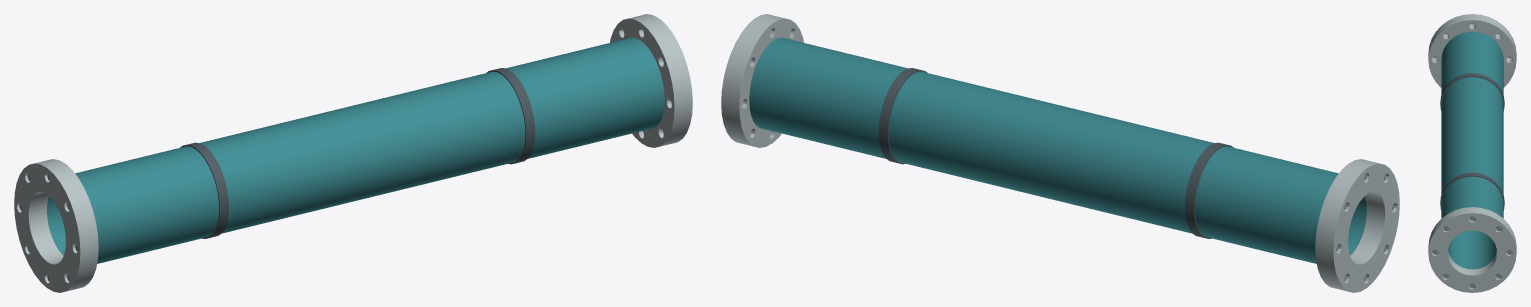
3 views of the same model, side by side, from view 1: azimuth 30°, elevation 25°; view 2: azimuth 150°, elevation 25°; view 3: azimuth 270°, elevation 25° (orthographic). The views are drawn at different scales.
Visible parts, largest first — view 1: SM_NPP_Pipe_Straight_4m_A; view 2: SM_NPP_Pipe_Straight_4m_A; view 3: SM_NPP_Pipe_Straight_4m_A.
Part boxes in pixels (<box>): SM_NPP_Pipe_Straight_4m_A: <box>14,14,692,292</box>; SM_NPP_Pipe_Straight_4m_A: <box>721,14,1399,292</box>; SM_NPP_Pipe_Straight_4m_A: <box>1428,14,1516,292</box>.
Size of the model in its own units: 4 by 0.75 by 0.75.
